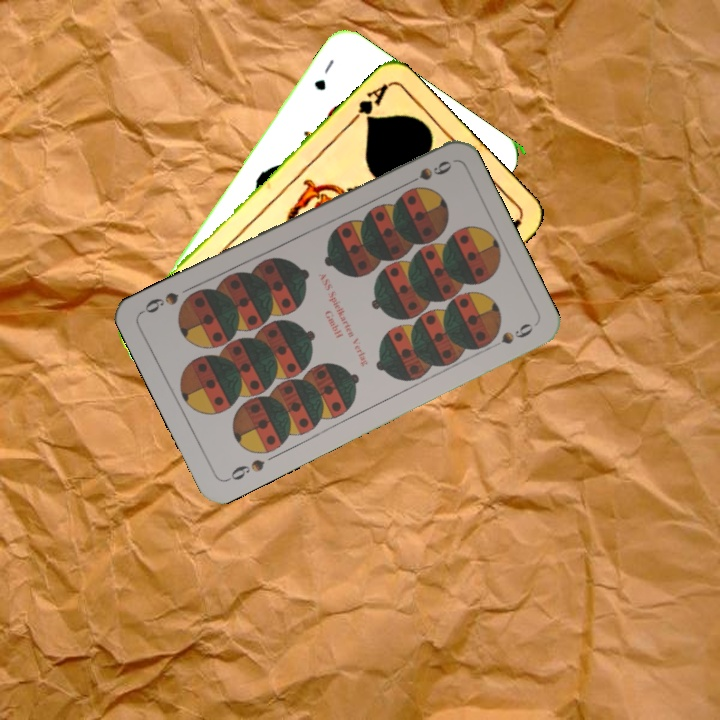GA: (345, 79, 391, 128)
GU: (310, 55, 337, 94)
S9: (399, 156, 454, 190), (221, 455, 268, 485)
